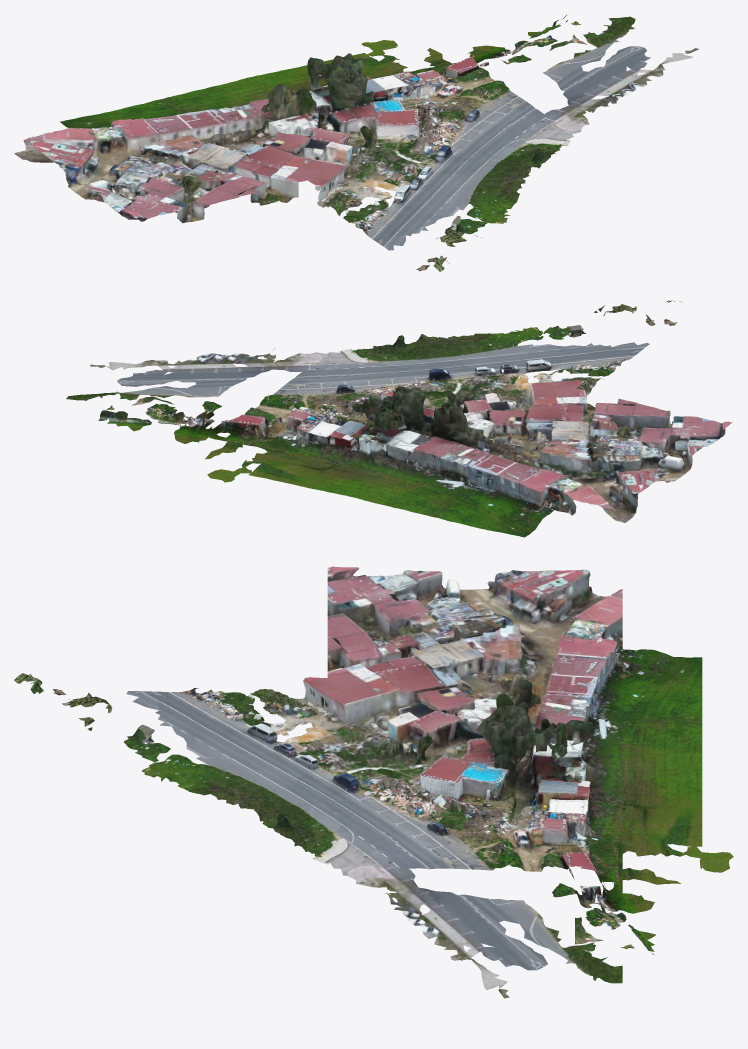
File: bairro_06.glb
3 views of the same model, one above another, from view 1: azimuth 30°, elevation 25°; view 2: azimuth 150°, elevation 25°; view 3: azimuth 270°, elevation 25° (orthographic). The views are drawn at different scales.
Visible parts, largest first — view 1: bairro_06; view 2: bairro_06; view 3: bairro_06.
Part boxes in pixels (x1,y1,x2,y2): bairro_06: [14, 15, 698, 271]; bairro_06: [66, 300, 732, 537]; bairro_06: [14, 566, 733, 998].
Bounding box in the file's own units: 153 × 14.36 × 113.
Materials: 1 (1 with a texture image).
